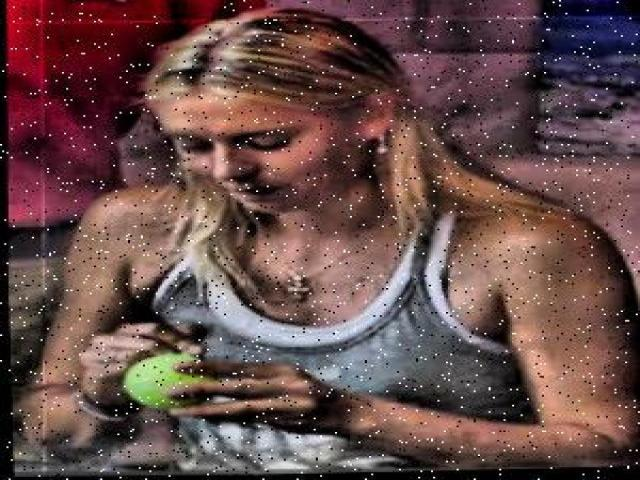tennis-ball: (121, 352, 219, 408)
